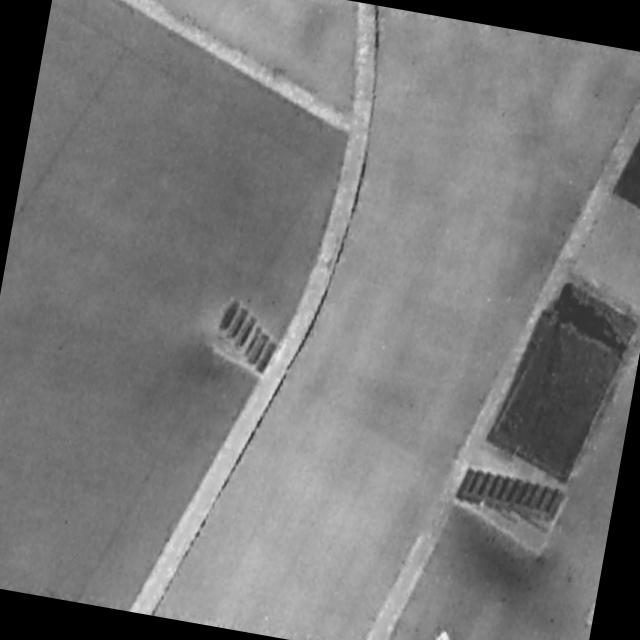person: (430, 625, 455, 640)
